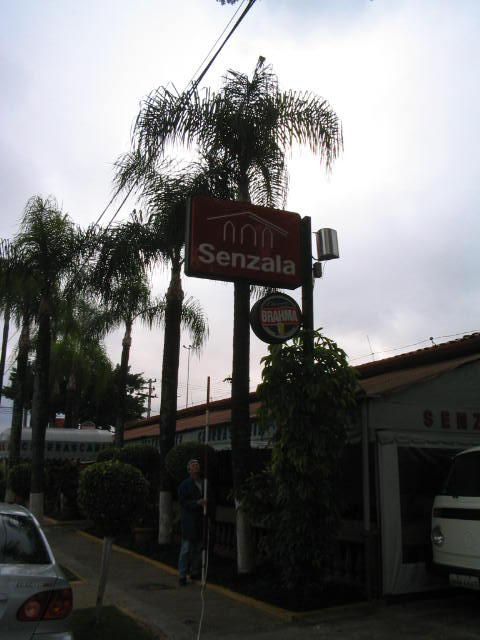crown: (141, 61, 345, 216)
stem: (219, 200, 276, 576), (28, 323, 61, 516)
stick: (192, 376, 219, 589)
tree: (138, 60, 347, 576), (14, 198, 101, 518), (85, 222, 161, 451)
